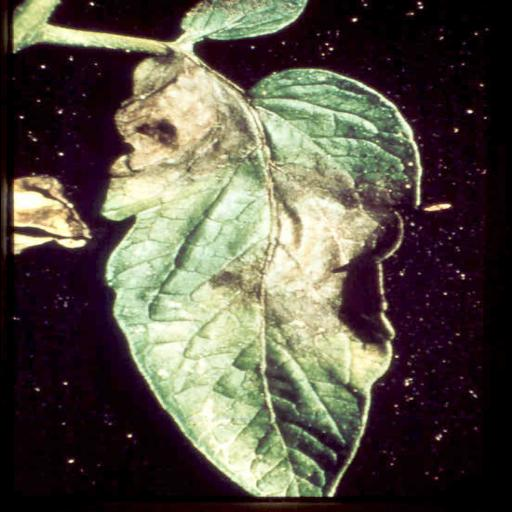disease_tomato: (98, 54, 422, 500)
